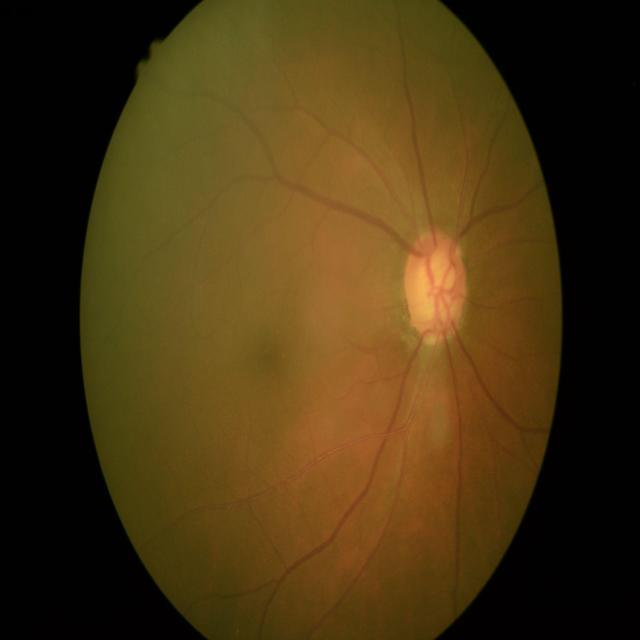cup: (415, 249, 455, 328)
disk: (406, 232, 466, 340)
